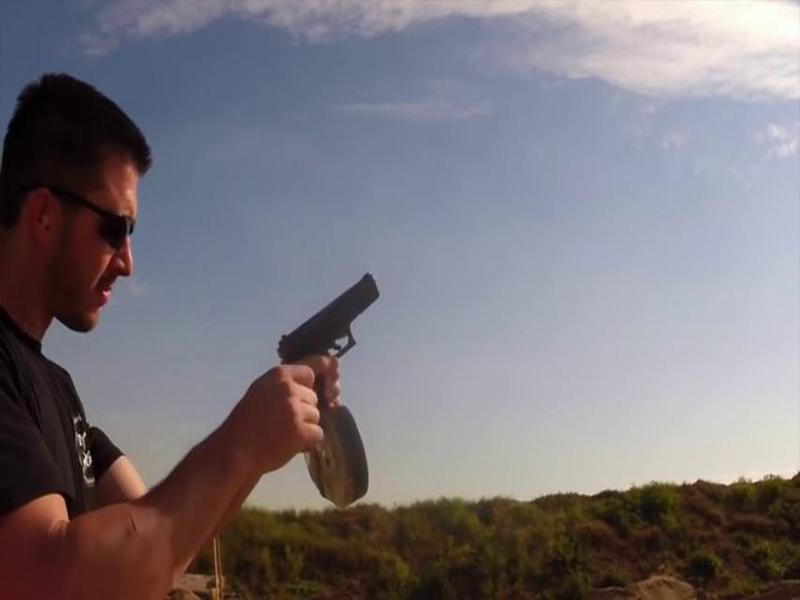Pistola: (252, 264, 412, 415)
